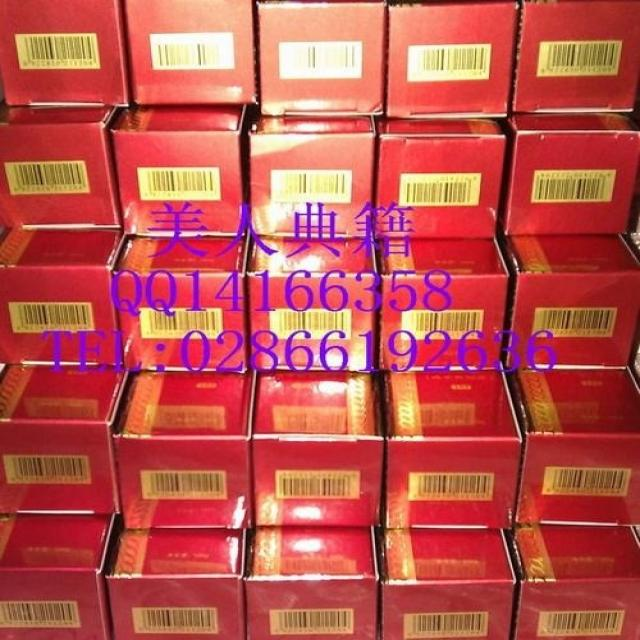box: (113, 370, 256, 531), (381, 370, 522, 531), (508, 369, 640, 530), (250, 371, 383, 530), (0, 363, 132, 514), (502, 233, 640, 369), (113, 236, 253, 370), (110, 104, 251, 237), (246, 235, 379, 371), (497, 113, 640, 235), (378, 239, 509, 370), (0, 231, 127, 365), (375, 115, 507, 239), (247, 118, 376, 239), (109, 530, 250, 640), (507, 524, 640, 640), (379, 528, 516, 640), (388, 1, 518, 119), (242, 529, 380, 638), (0, 105, 120, 228), (512, 0, 640, 113), (124, 0, 257, 106), (1, 516, 114, 639), (260, 5, 385, 115), (0, 1, 129, 106)
